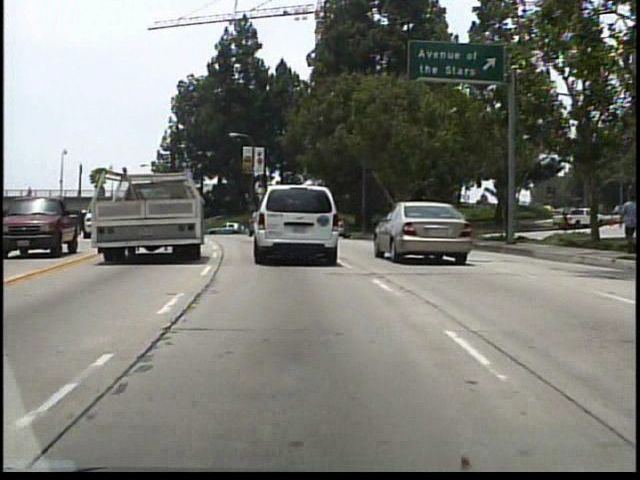person: (614, 191, 636, 258), (23, 184, 34, 203)
